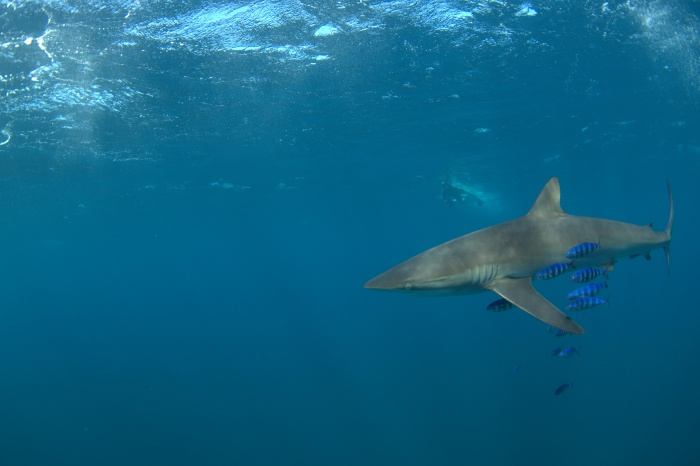Sedoso: (355, 170, 687, 343)
